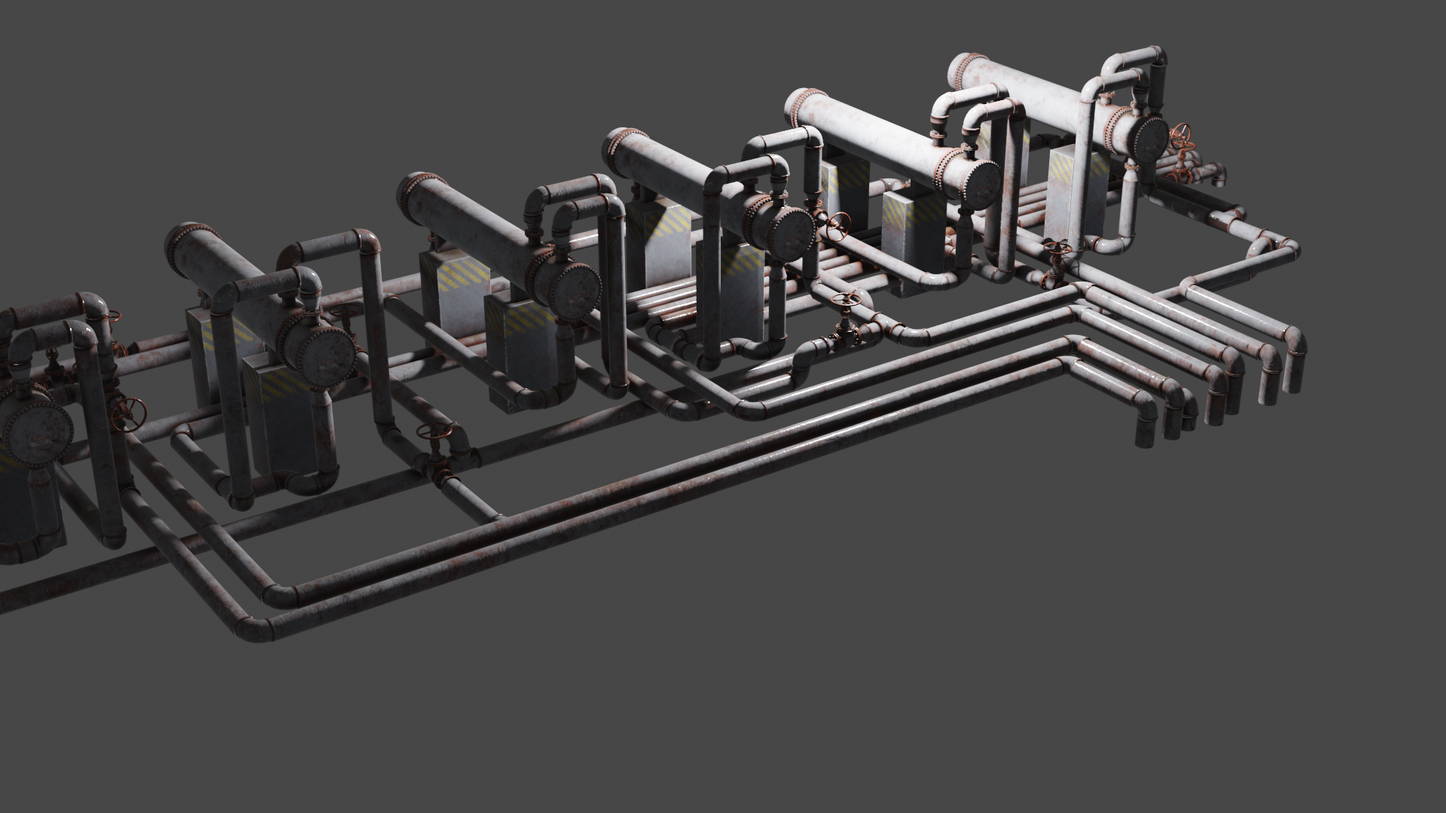HE_1: (5, 379, 74, 463)
HE_2: (162, 219, 351, 386)
HE_3: (394, 170, 599, 316)
HE_4: (600, 125, 817, 256)
HE_5: (780, 83, 1002, 205)
HE_6: (944, 49, 1170, 160)
